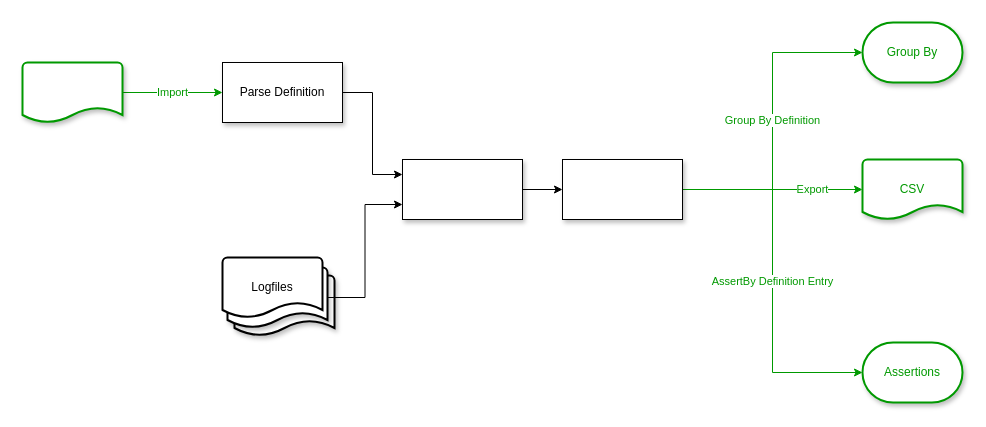
The diagram is 986 pixels wide and 427 high, and some of its shapes have lost their labels. Here are the shapes that lost their labels. From the top down, the centre of each, then its label:
At (73,93): "JSON".
At (463,190): "StringParseFactory".
At (623,190): "LogData".
